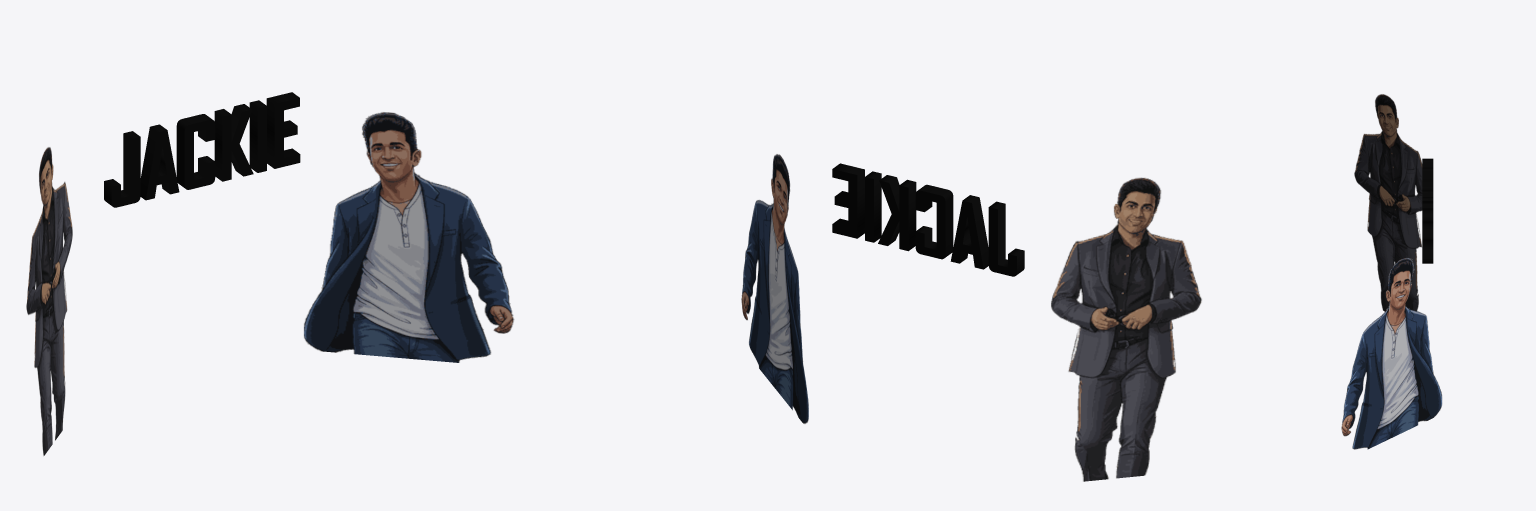
3 renders of one model, left to right at view 1: azimuth 30°, elevation 25°; view 2: azimuth 150°, elevation 25°; view 3: azimuth 270°, elevation 25°, orthographic. The views are drawn at different scales.
Parts seen in each view (by area): view 1: Empty.003, Text, Empty.004; view 2: Empty.004, Text, Empty.003; view 3: Empty.003, Empty.004, Text.
Part boxes in pixels (x1,y1,x2,y2): Empty.003: (304,112,514,362); Text: (104,92,300,207); Empty.004: (26,147,72,455); Empty.004: (1051,177,1201,481); Text: (832,163,1024,276); Empty.003: (741,154,808,423); Empty.003: (1341,257,1442,449); Empty.004: (1354,94,1422,311); Text: (1422,158,1433,263).
Bounding box in the file's own units: 12.15 × 7.4 × 6.17.
Materials: 3 (2 with a texture image).
